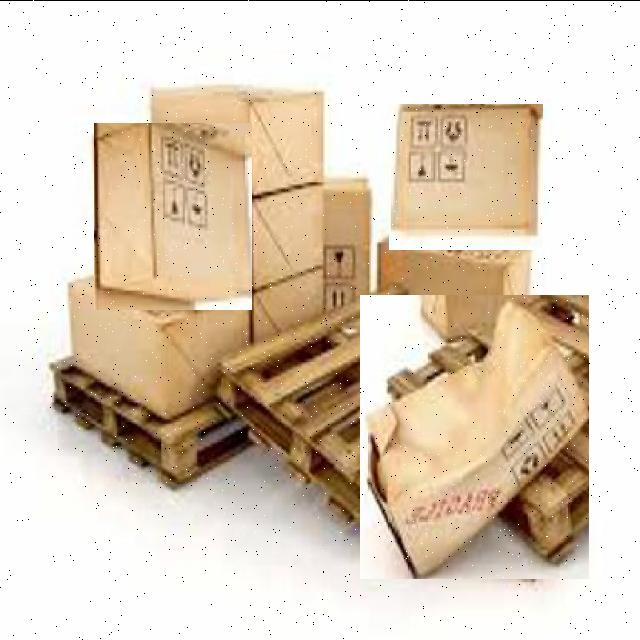defect: (360, 294, 589, 578)
normal: (94, 122, 252, 309), (389, 103, 543, 249)
